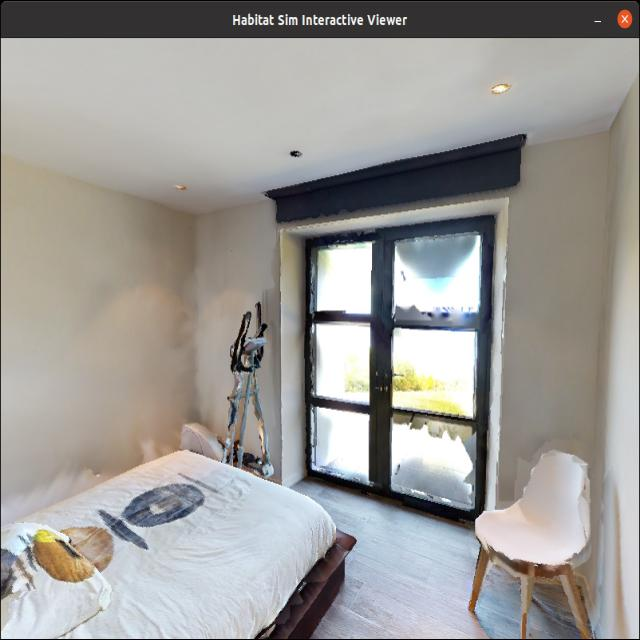bed: (0, 429, 369, 639)
chair: (456, 439, 632, 640)
